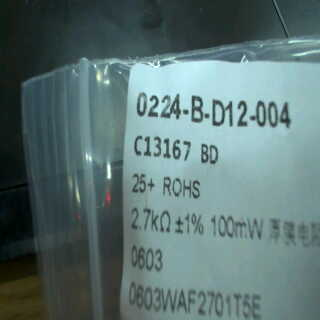2.7kR: (129, 202, 172, 238)
